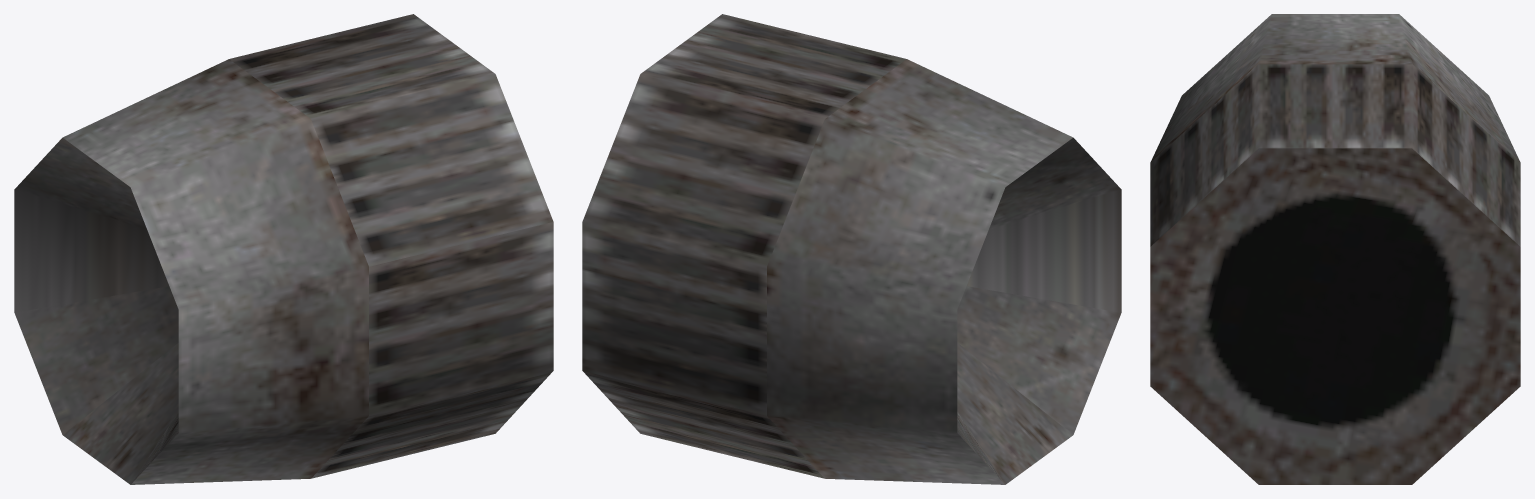
Rendered from p_rus_hose_modular_connect_end_LOD3.obj.
3 views of the same model, side by side, from view 1: azimuth 30°, elevation 25°; view 2: azimuth 150°, elevation 25°; view 3: azimuth 270°, elevation 25° (orthographic). The views are drawn at different scales.
Visible parts, largest first — view 1: mtl_p_rus_hose_fitting_end; view 2: mtl_p_rus_hose_fitting_end; view 3: mtl_p_rus_hose_fitting_end.
Boxes of the visible parts, x1,y1,x2,y2 form: mtl_p_rus_hose_fitting_end: (14, 14, 553, 484); mtl_p_rus_hose_fitting_end: (582, 14, 1121, 484); mtl_p_rus_hose_fitting_end: (1150, 14, 1520, 484).
Size of the model in its own units: 27.9 by 26.79 by 26.71.
